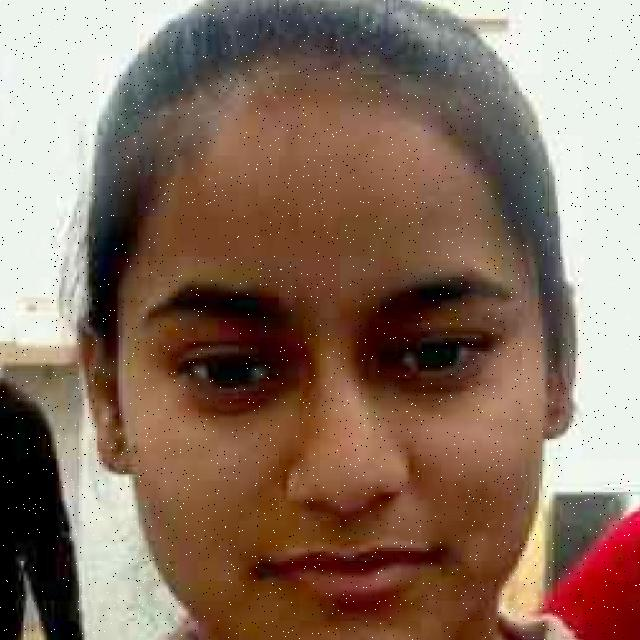puffy_eyes: (190, 385, 291, 417)
